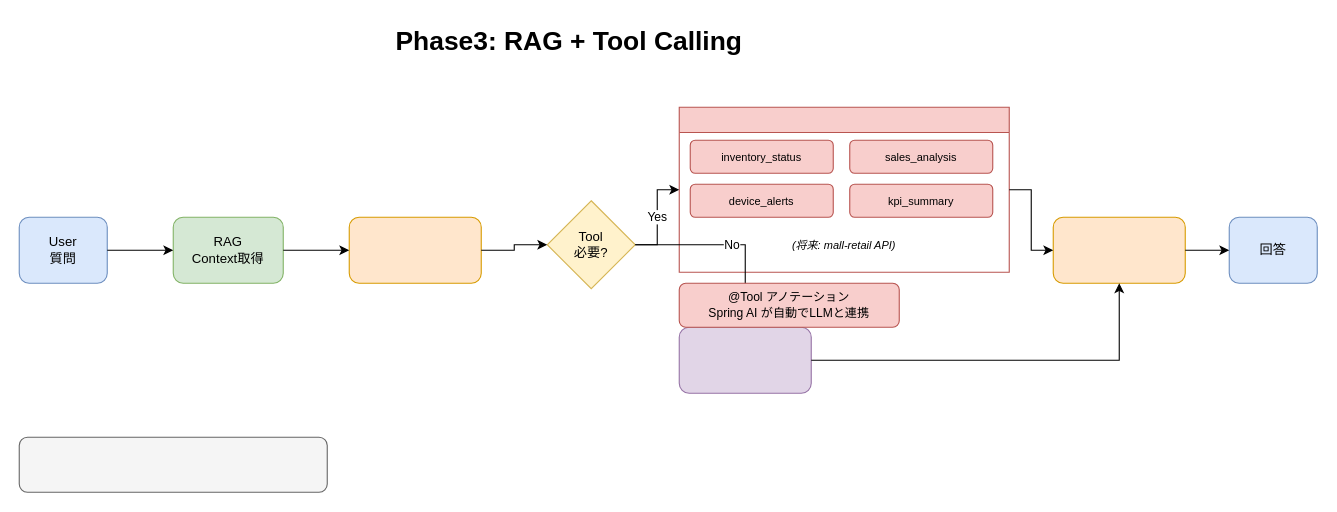
This 1337x512 diagram has some shape labels left out. The box of each missing label's shape, as (x1, y1, x2, y2) in pixels:
LLM (Tool必要か判断): (348, 216, 481, 283)
LLM 最終回答生成: (1052, 216, 1185, 283)
Tool 実行: (678, 106, 1009, 272)
ホワイトリスト: defaultToolNames() で許可するToolを明示: (18, 436, 327, 492)
直接回答 (Contextで十分): (678, 326, 811, 393)
